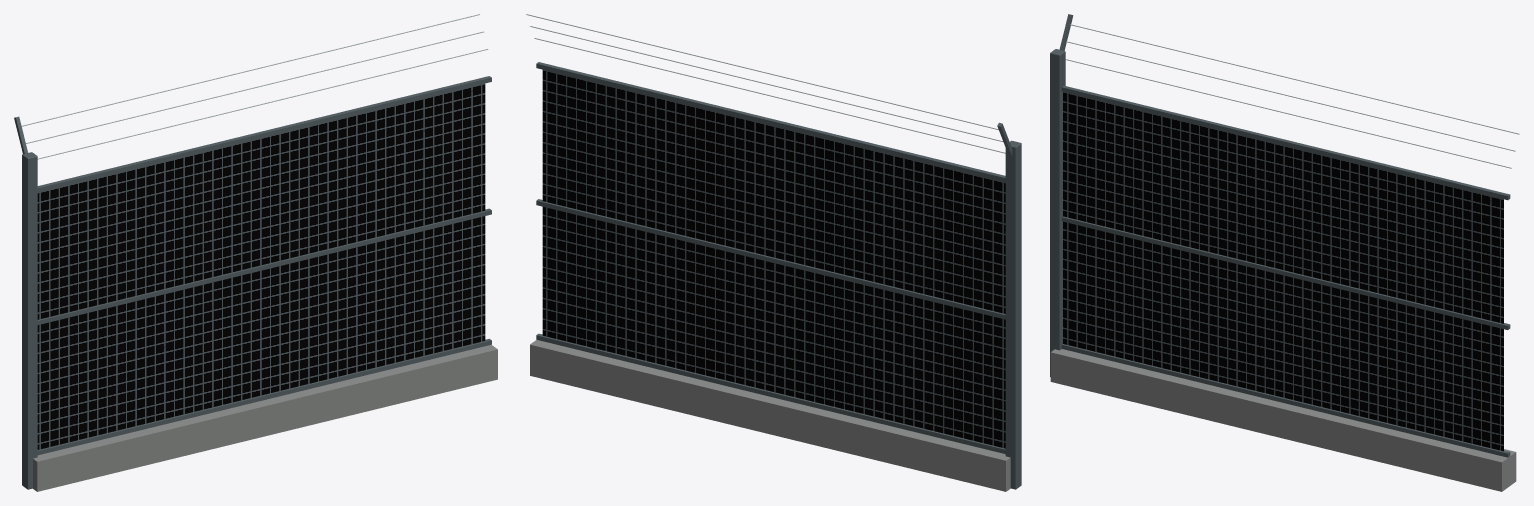
Rendered from station-fence.glb.
3 views of the same model, side by side, from view 1: azimuth 30°, elevation 25°; view 2: azimuth 150°, elevation 25°; view 3: azimuth 330°, elevation 25° (orthographic). The views are drawn at different scales.
Visible parts, largest first — view 1: 围栏; view 2: 围栏; view 3: 围栏.
Boxes of the visible parts, <box> form: 围栏: <box>14,14,497,491</box>; 围栏: <box>526,14,1021,491</box>; 围栏: <box>1050,14,1519,491</box>.
Bounding box in the file's own units: 4.05 × 2.99 × 0.3239.
Materials: 3 (1 with a texture image).
